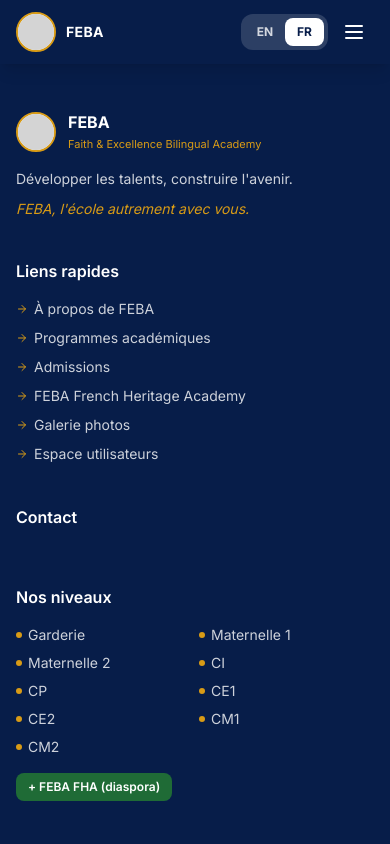
Test: sélecteur de langue sur petit écran › n'affiche pas deux sélecteurs quand le menu est ouvert
What coordinates should you click on to do the following:
click the button named "menu"
I would click on:
 (354, 32)
Its box is [334,12,374,52].
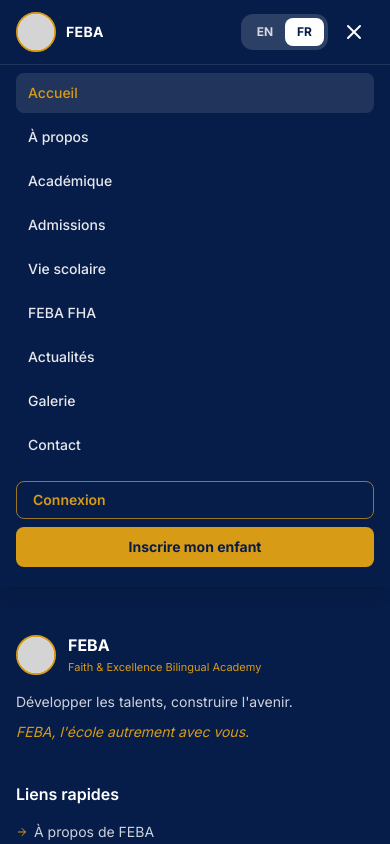
Check: the navigation bar named "Navigation mobile" is shown
